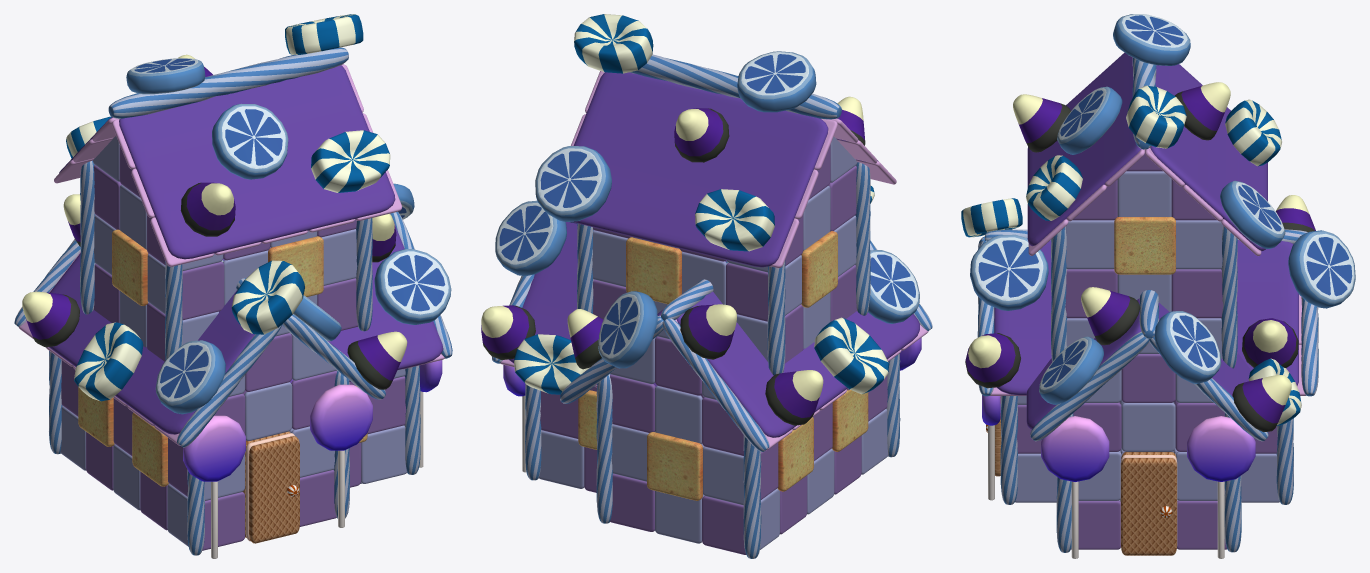
Rendered from cw_house_28.fbx.
The picture shows the model from 3 angles, left to right: view 1: azimuth 30°, elevation 25°; view 2: azimuth 150°, elevation 25°; view 3: azimuth 270°, elevation 25°; orthographic projection.
Visible parts, largest first — view 1: cw_house_28; view 2: cw_house_28; view 3: cw_house_28.
Boxes of the visible parts, x1=… form: cw_house_28: x1=14, y1=14, x2=452, y2=558; cw_house_28: x1=481, y1=14, x2=932, y2=558; cw_house_28: x1=961, y1=14, x2=1355, y2=558.
Size of the model in its own units: 824 by 960 by 789.
